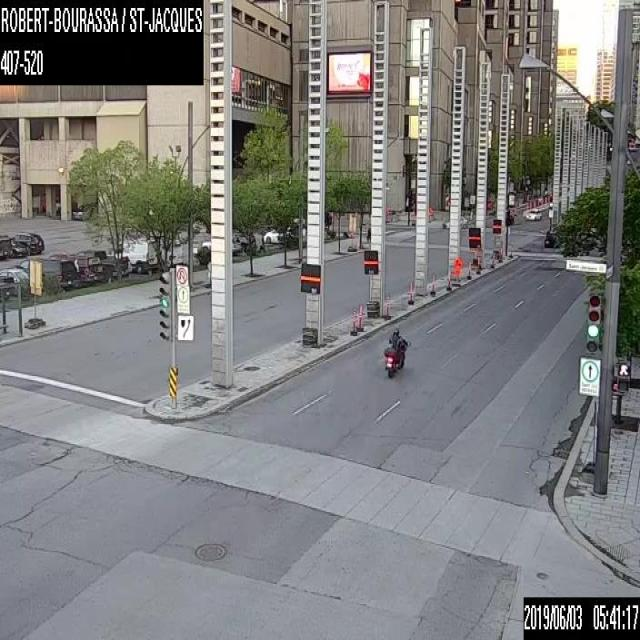construction: (348, 307, 358, 335), (355, 301, 365, 329), (452, 255, 460, 285), (405, 276, 413, 304), (383, 294, 390, 318), (429, 273, 436, 295), (444, 272, 451, 289), (465, 262, 470, 278)
vehicle: (14, 258, 76, 289), (109, 238, 159, 272), (48, 251, 99, 284), (78, 249, 122, 281), (383, 328, 407, 377), (0, 266, 29, 293), (14, 232, 44, 252), (262, 227, 294, 243), (0, 273, 17, 298), (9, 236, 28, 256), (444, 213, 466, 227), (0, 236, 11, 259), (524, 207, 541, 220), (544, 232, 556, 247)
